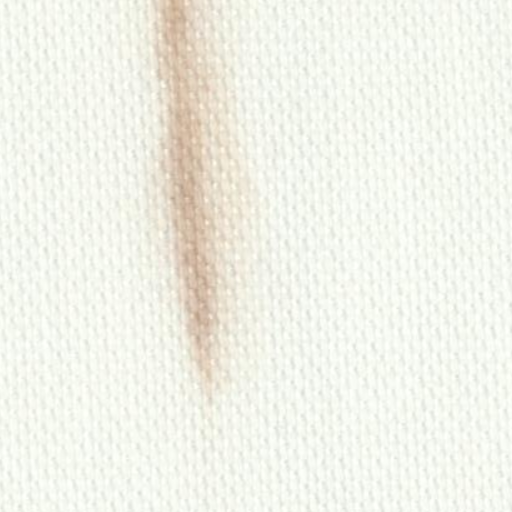WuZi: (136, 2, 268, 402)
